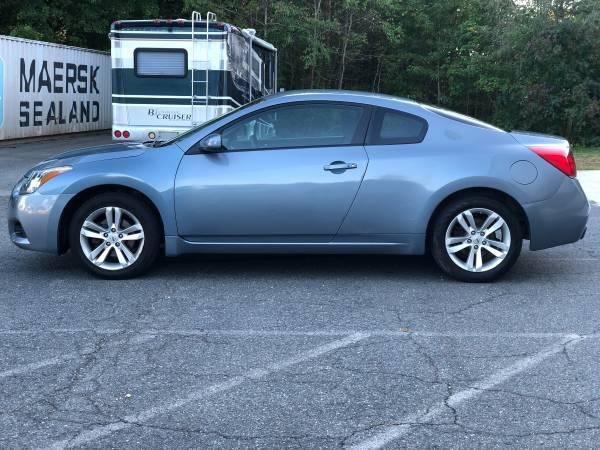Front_Bumper: (7, 189, 75, 259)
Front_Fender: (37, 148, 182, 257)
Front_Left_Door: (172, 146, 368, 253)
Front_Left_Window: (186, 102, 372, 155)
Hood: (32, 140, 154, 170)
Left_Headlight: (11, 168, 73, 199)
Left_Taillight: (529, 142, 579, 179)
Rear_Bumper: (520, 179, 590, 251)
Rear_Fender: (330, 108, 564, 253)
Roof: (177, 88, 523, 154)
Wheel: (64, 191, 156, 278), (434, 192, 526, 278)
